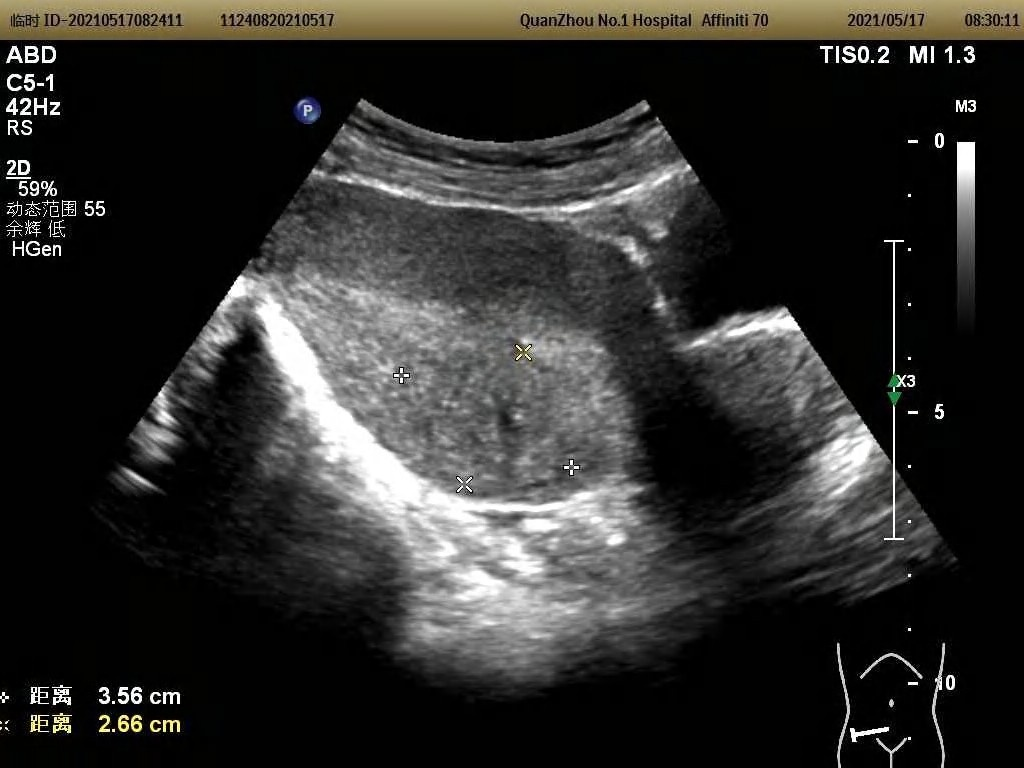肌瘤: (409, 348, 574, 489)
